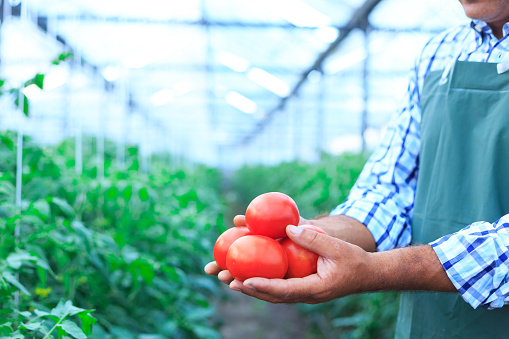em pe: (204, 1, 509, 339)
